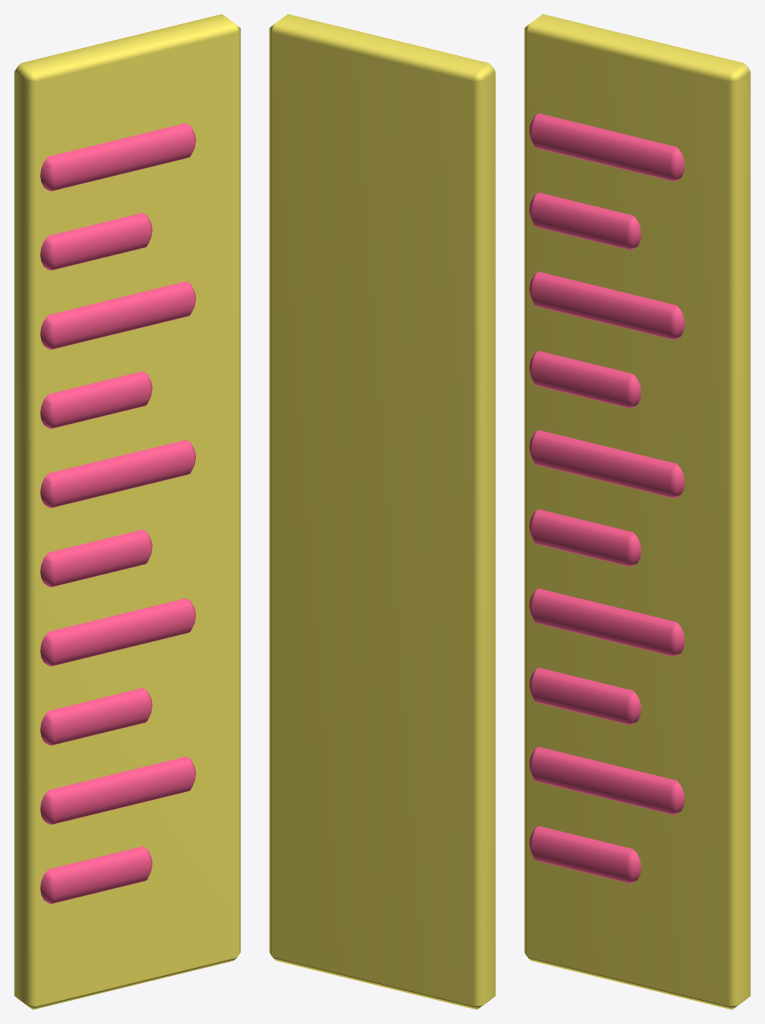
File: Public_8_Ruler_2.glb
3 renders of one model, left to right at view 1: azimuth 30°, elevation 25°; view 2: azimuth 150°, elevation 25°; view 3: azimuth 330°, elevation 25°, orthographic.
Visible parts, largest first — view 1: Public_8_Ruler_2; view 2: Public_8_Ruler_2; view 3: Public_8_Ruler_2.
Part boxes in pixels (x1,y1,x2,y2): Public_8_Ruler_2: (14, 14, 240, 1009); Public_8_Ruler_2: (269, 14, 495, 1009); Public_8_Ruler_2: (524, 14, 750, 1009).
Size of the model in its own units: 0.4518 by 1.89 by 0.0958.
1 material, 1 textured.
